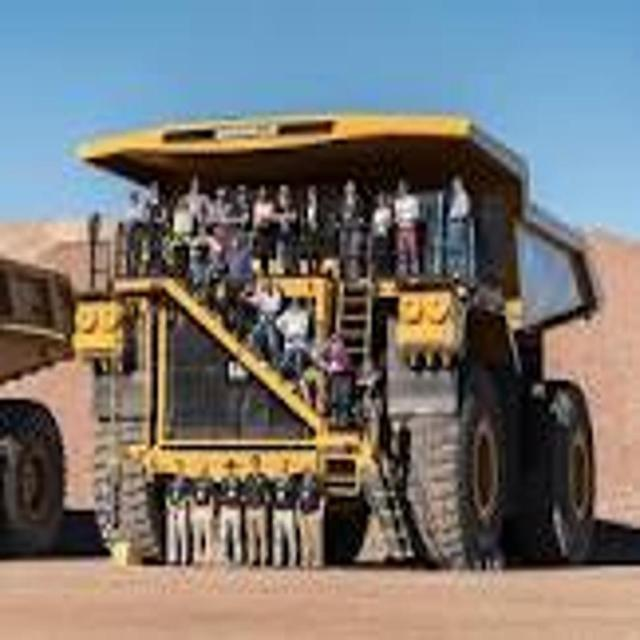dump_truck: (73, 97, 615, 579)
